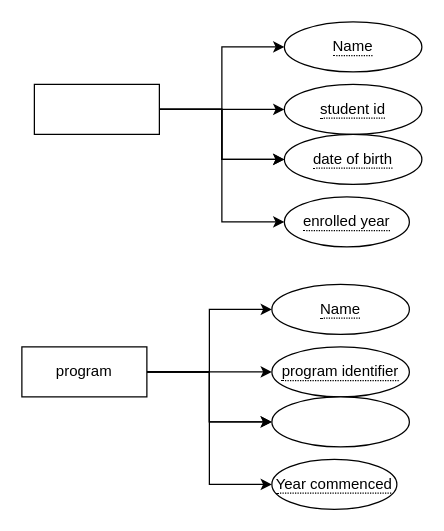
Image size: 444x531. Some labels were removed from this diagram. The shapes that lost their labels are listed below. From the top down, each one's centre as x and y in pixels, then its label:
the point at 96,108: student
the point at 340,421: Total credits required
